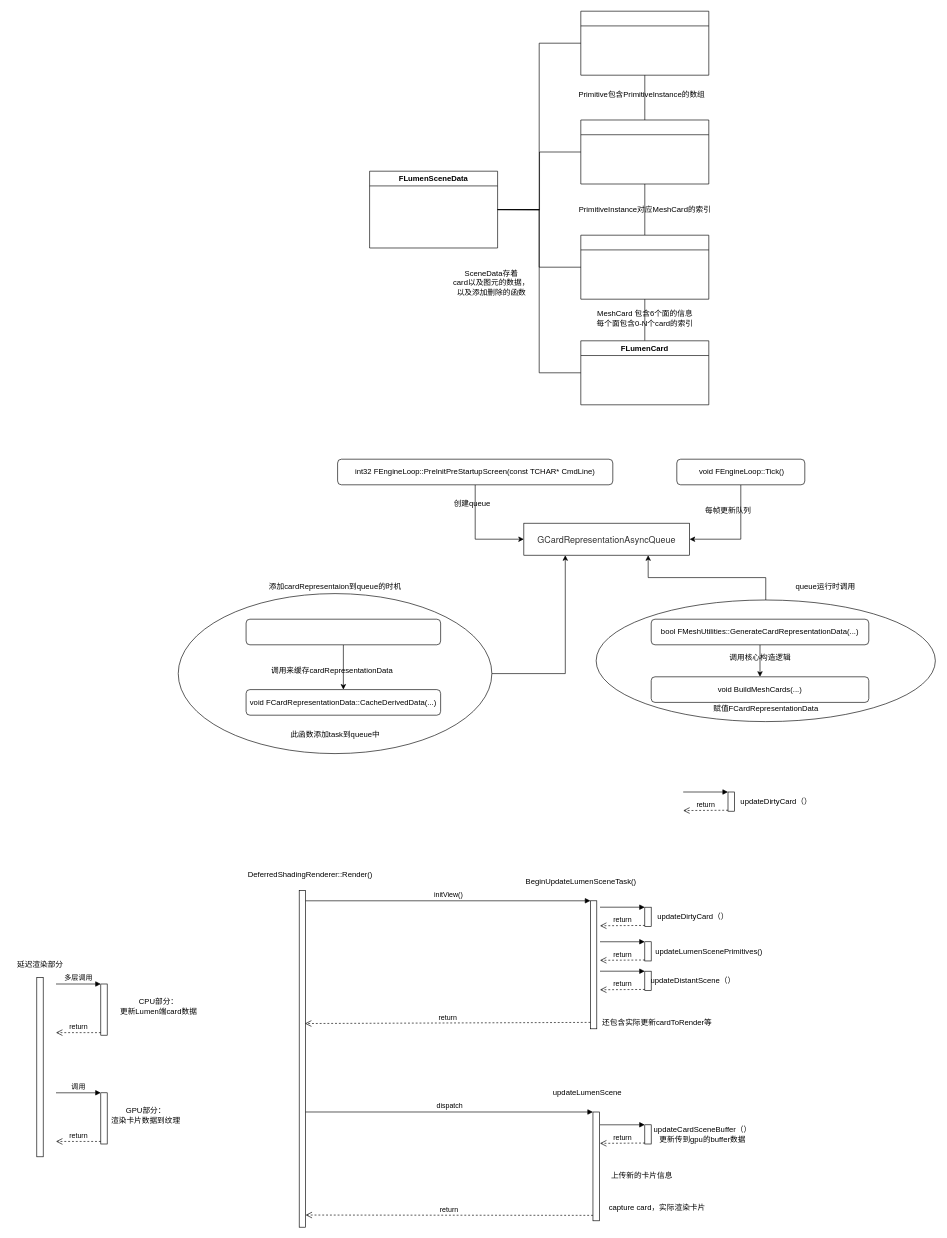
Some shapes in this 947 by 1238 pixel diagram are drawn without their labels. The box of each missing label's shape, as (x1, y1, x2, y2) in pixels:
FLumenMeshCards: (580, 235, 709, 299)
FLumenPrimitive: (580, 11, 709, 75)
FLumenPrimitiveInstance: (580, 119, 709, 184)
void BeginCacheMeshCardRepresentation(...): (245, 619, 441, 645)
